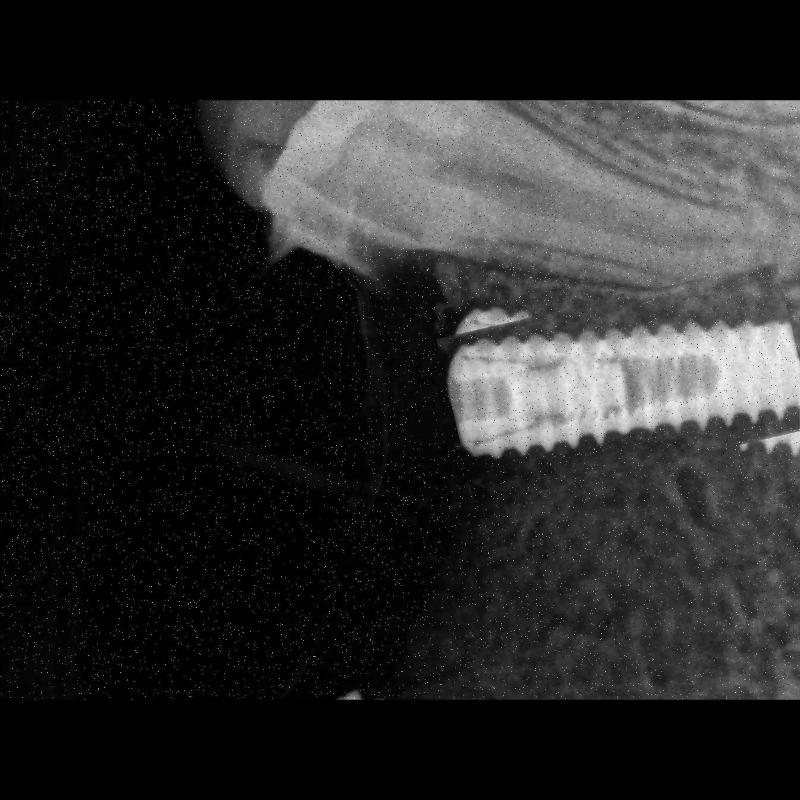osstem: (444, 279, 800, 487)
